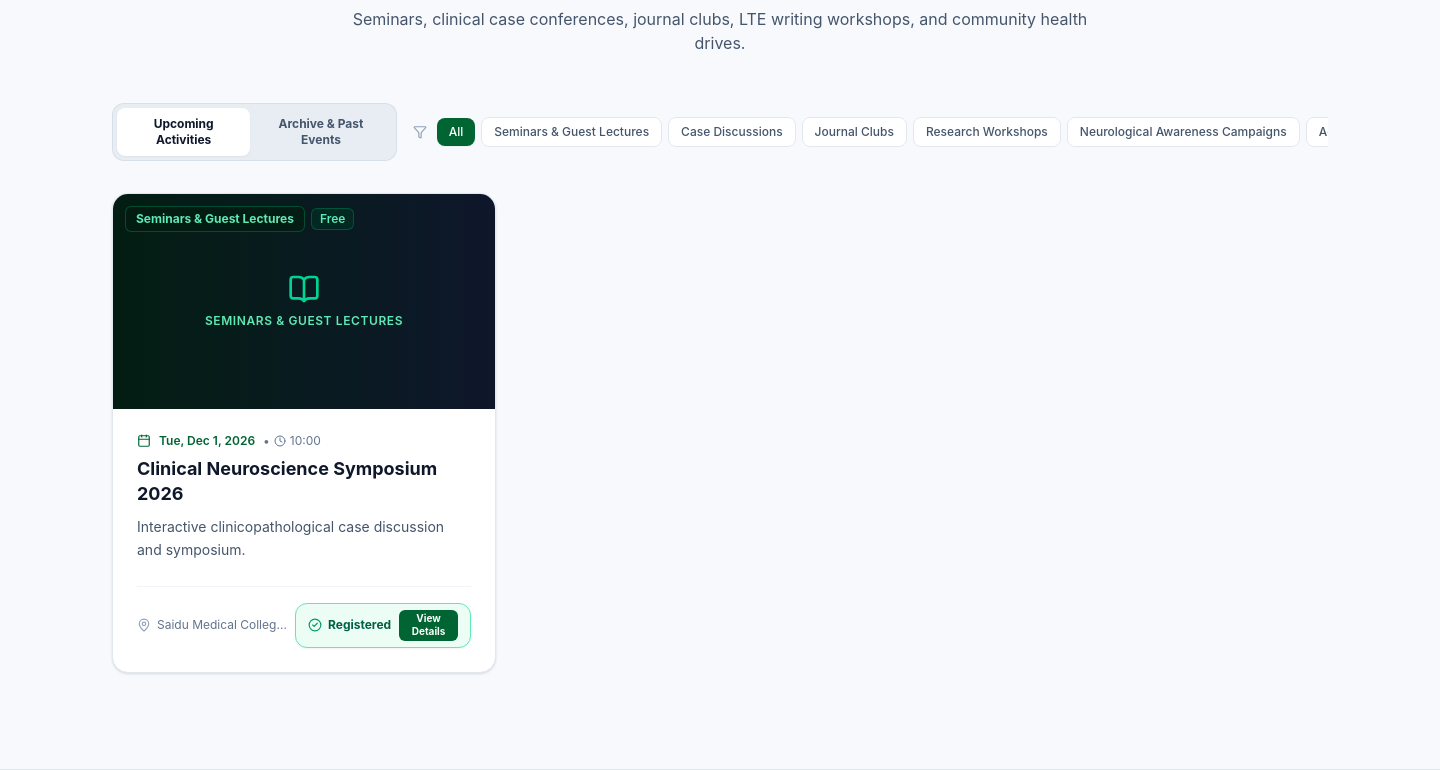
Event Registration System › transforms Register button into "Registered • View Details" when attendee is already registered
(page scrolled)
expect the heading "Clinical Neuroscience Symposium 2026" is shown: met, box [137,457,471,506]
# Clicking View Details opens the modal in Confirmed Pass view with reference code & details
Click the button "Registered View Details": point(383, 625) [295,603,471,648]
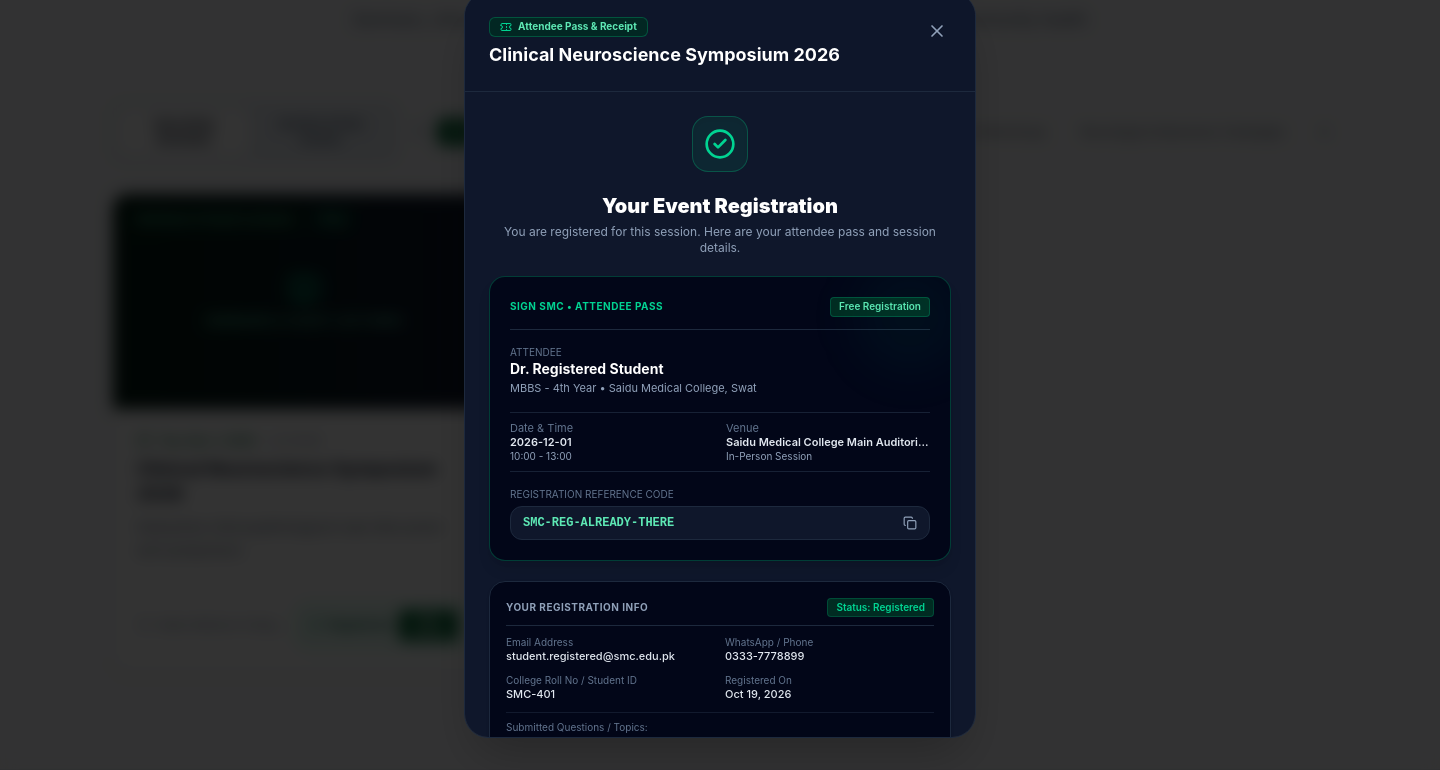
expect the heading "Your Event Registration" is shown: met, box [602,194,838,218]
expect the text "SMC-REG-ALREADY-THERE" is shown: met, box [523,515,674,531]
expect the text "student.registered@smc.edu.pk" is shown: met, box [506,649,675,663]
